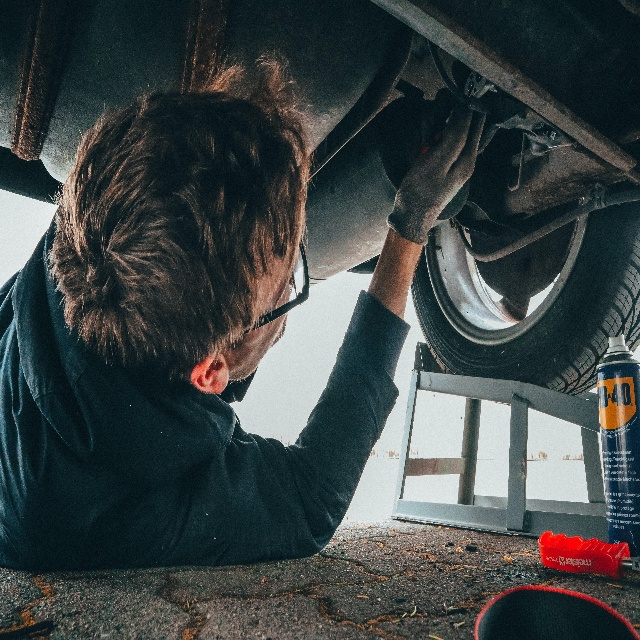Gafas: (240, 236, 311, 336)
Guantes: (386, 101, 487, 247)
